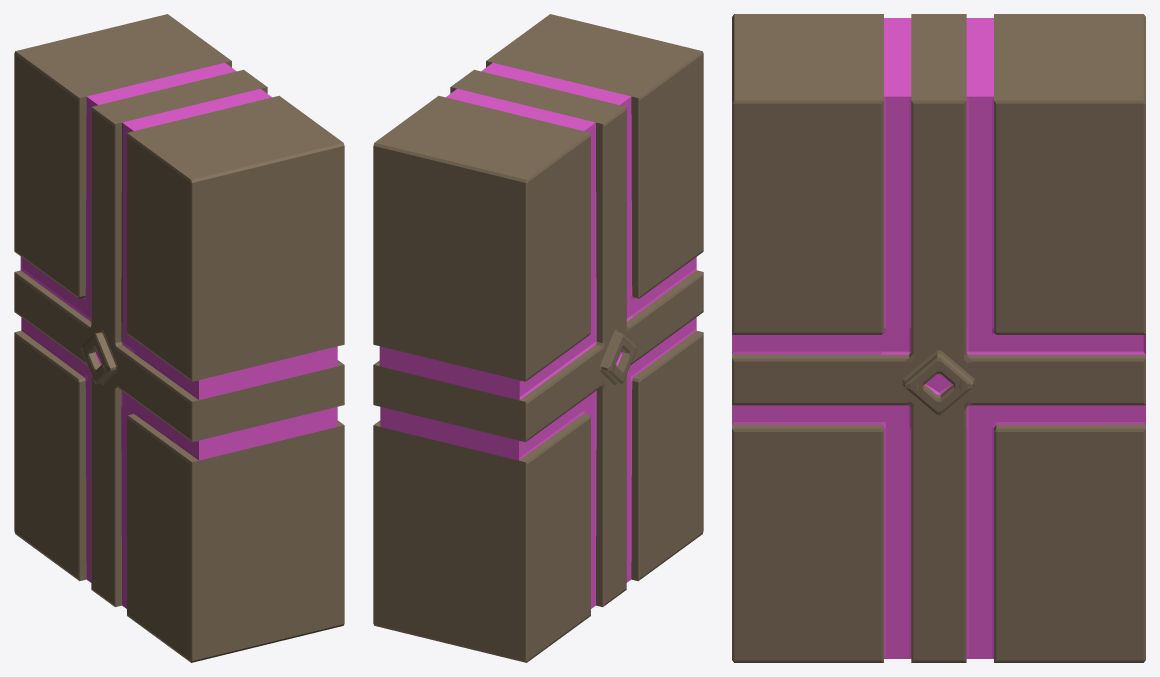
Rendered from SimuWall.fbx.
The picture shows the model from 3 angles, left to right: view 1: azimuth 30°, elevation 25°; view 2: azimuth 150°, elevation 25°; view 3: azimuth 270°, elevation 25°; orthographic projection. The views are drawn at different scales.
Visible parts, largest first — view 1: WallSimuGood; view 2: WallSimuGood; view 3: WallSimuGood.
Boxes of the visible parts, x1,y1,x2,y2 form: WallSimuGood: (14,14,344,662); WallSimuGood: (373,14,703,662); WallSimuGood: (732,14,1145,662).
Bounding box in the file's own units: 220 × 600 × 400.
